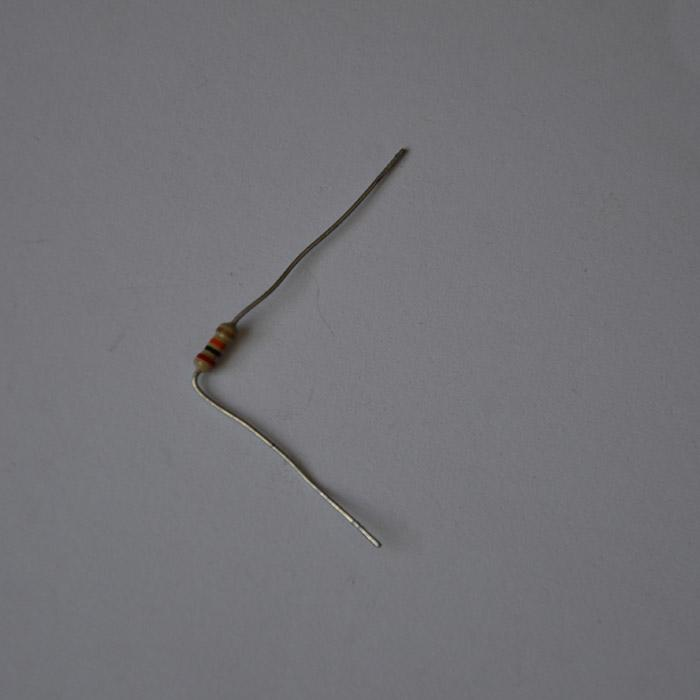resistor: (193, 320, 239, 374)
